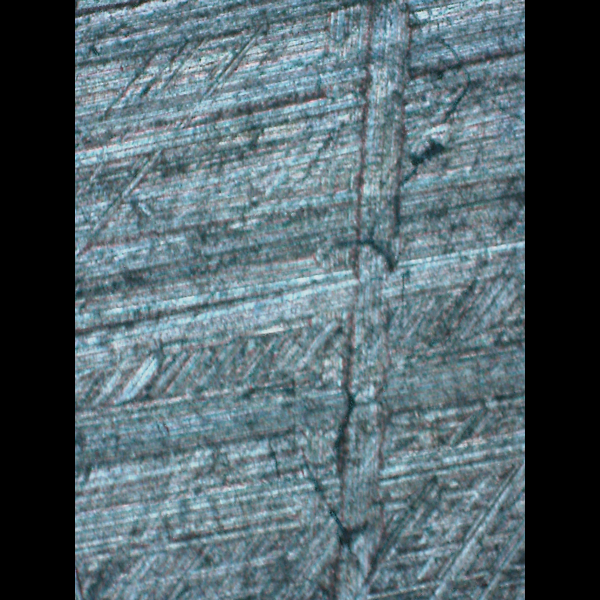d: (321, 0, 475, 599), (75, 0, 275, 263)
